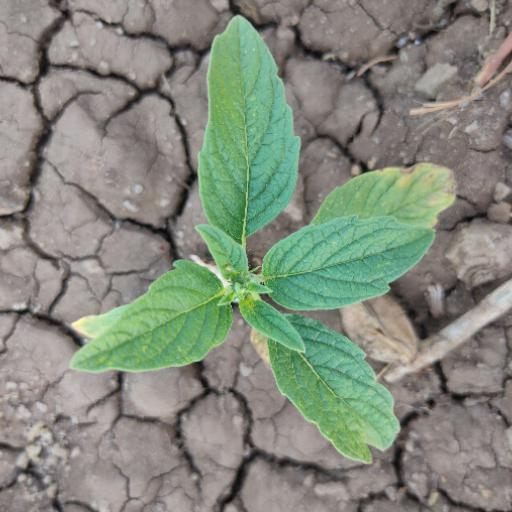crop: (64, 3, 453, 497)
